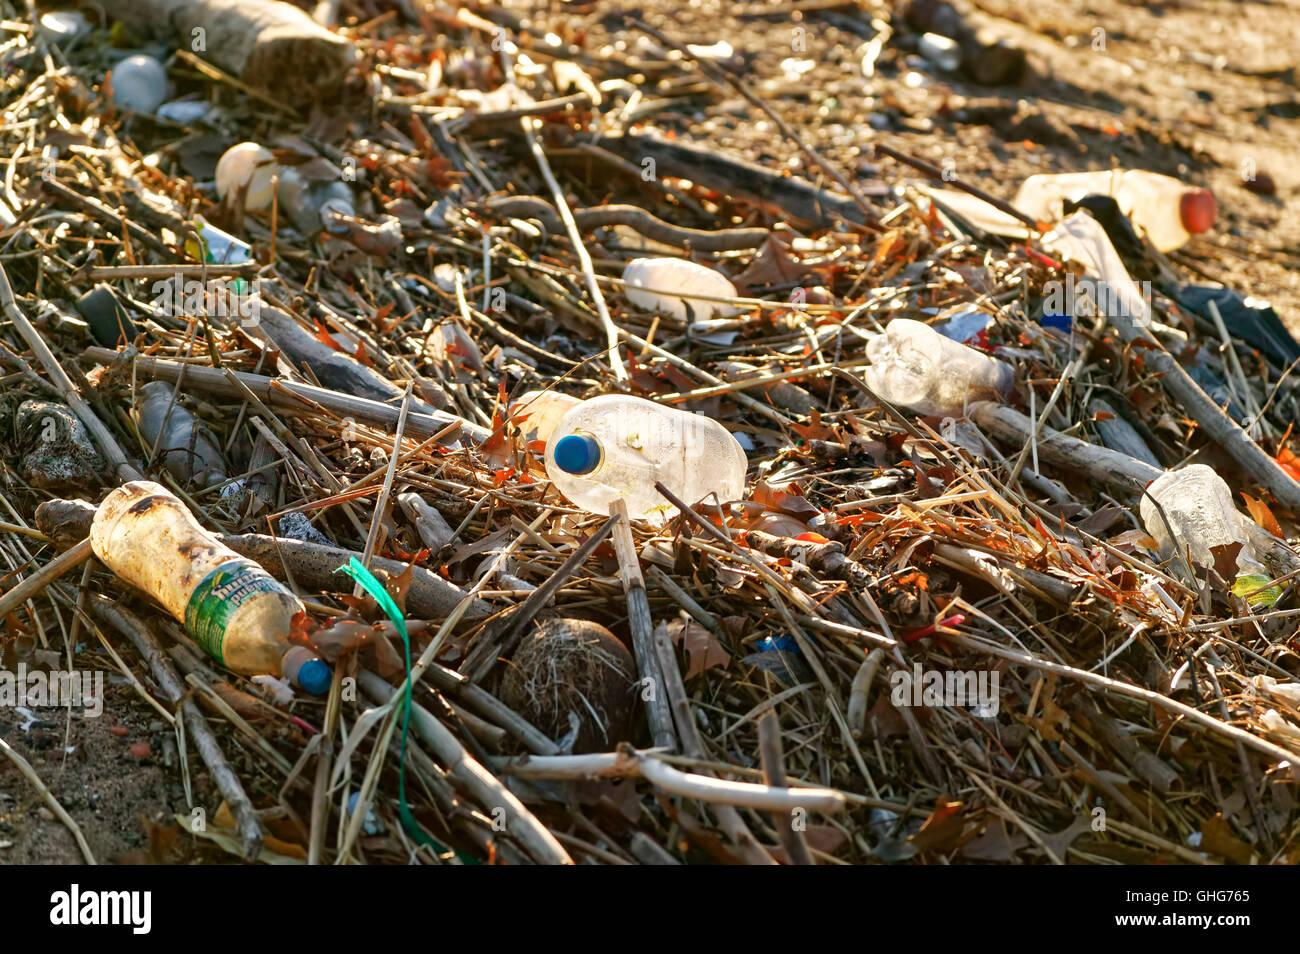bottle: (518, 370, 765, 538), (839, 290, 994, 436), (1007, 0, 1224, 74), (588, 43, 729, 139), (198, 540, 219, 632), (1137, 538, 1289, 538)
